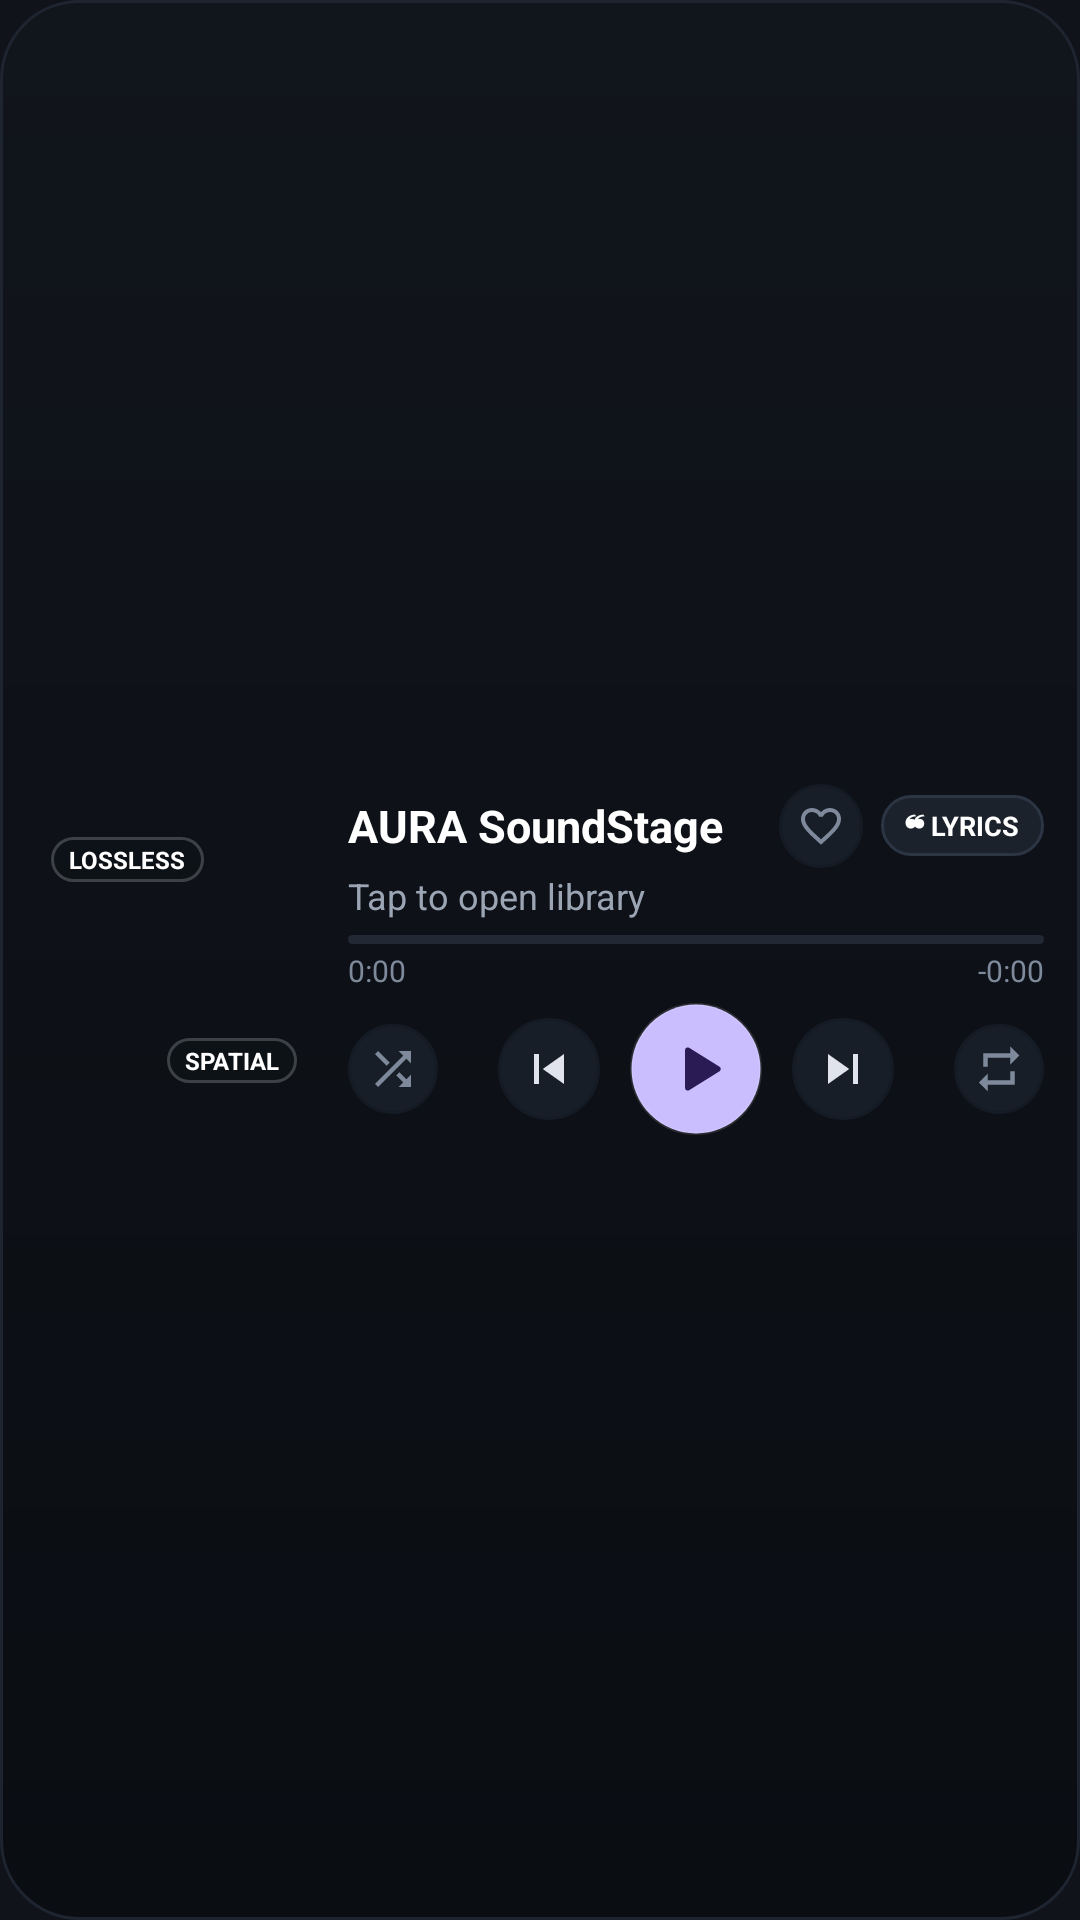

Where to tap for icons on this 1080px×1920px app screen, as (x,y):
Next Track: (843,1069)
Play or Pause: (696,1069)
Previous Track: (549,1069)
Repeat: (999,1069)
Shuffle: (393,1069)
widget heart: (821,826)
